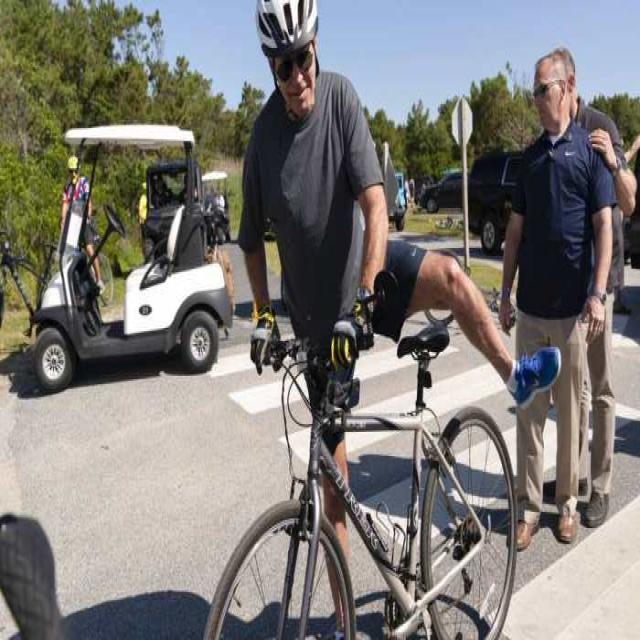autorickshaw: (34, 125, 232, 392)
bicycle: (206, 0, 560, 639)
car: (469, 153, 522, 254)
